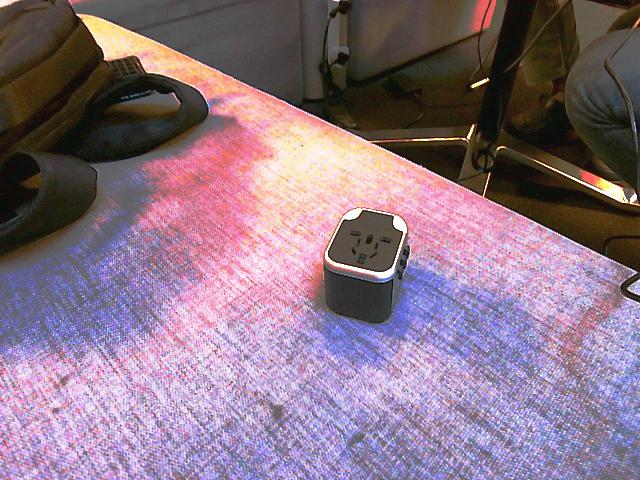adapter: (322, 206, 410, 322)
